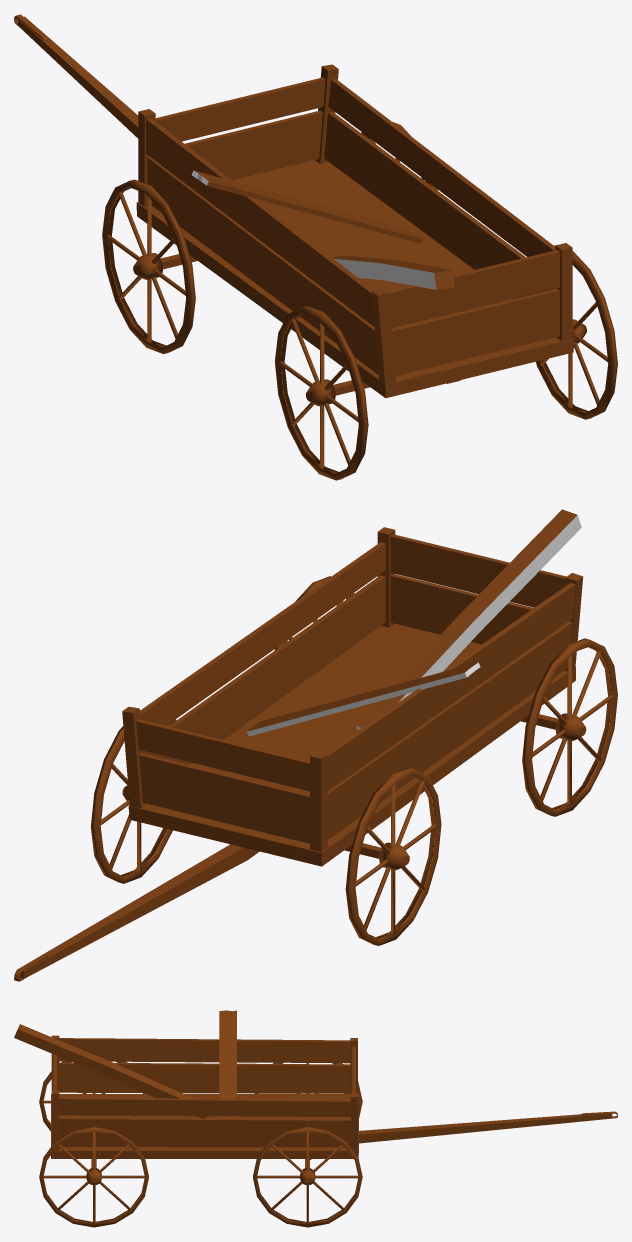
File: Carro.fbx
The picture shows the model from 3 angles, top to bottom: view 1: azimuth 30°, elevation 25°; view 2: azimuth 150°, elevation 25°; view 3: azimuth 270°, elevation 25°; orthographic projection. The views are drawn at different scales.
Parts seen in each view (by area): view 1: Cube.039; view 2: Cube.039; view 3: Cube.039.
Boxes of the visible parts, left/top/right/bottom form: Cube.039: left=14, top=14, right=617, bottom=480; Cube.039: left=14, top=509, right=617, bottom=981; Cube.039: left=14, top=1010, right=617, bottom=1227.
Size of the model in its own units: 38.95 by 31.09 by 119.
